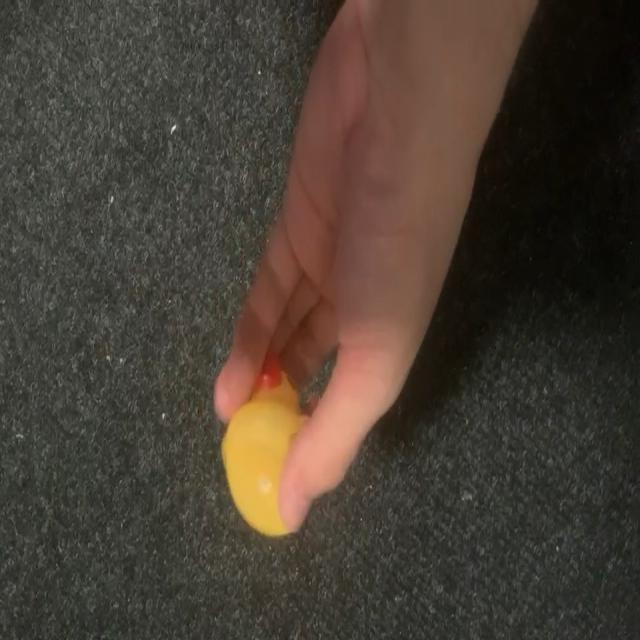rubber-duck: (221, 358, 302, 534)
